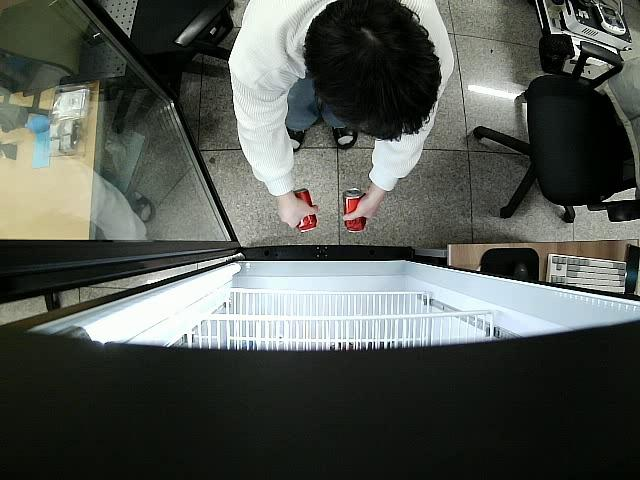00_hand: (274, 192, 319, 229), (342, 190, 382, 221)
11_cocaColaZero: (291, 188, 319, 234), (342, 188, 367, 233)
